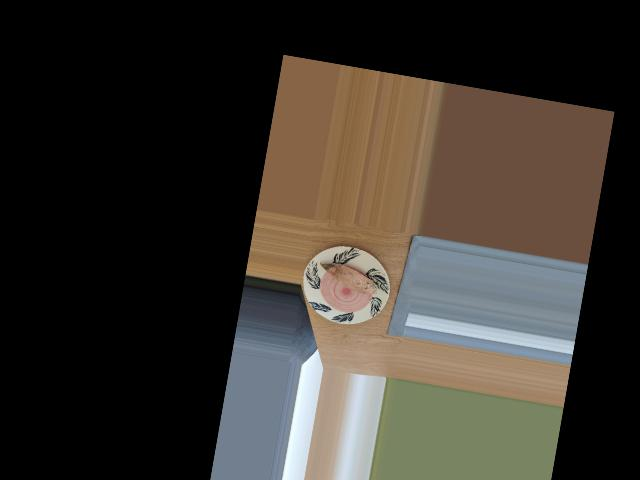sweet_potato: (320, 256, 379, 299)
